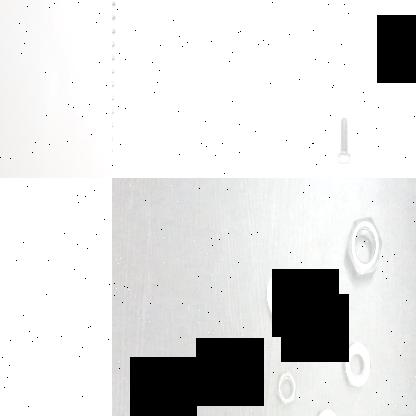Bolts: (331, 110, 356, 171)
NUTS: (340, 209, 384, 288), (260, 268, 296, 324), (341, 340, 373, 398), (272, 362, 298, 413), (302, 298, 324, 344), (315, 399, 343, 416)
